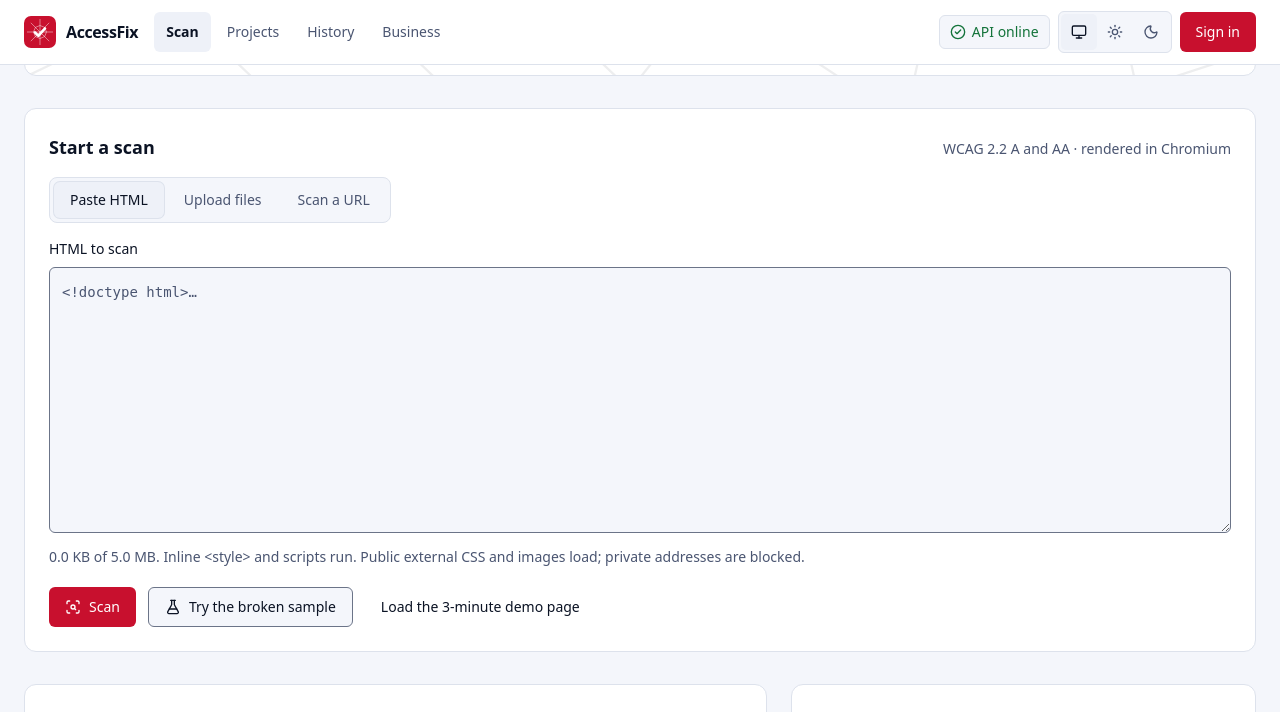
Test: scan flow › shows a clean state that still points to manual checks
(page scrolled)
Check: the text "API online" is shown, box [950,22,1038,42]
Type "<p>hi</p>" into the text box labelled "HTML to scan" at (640, 400), box [49,267,1231,533]
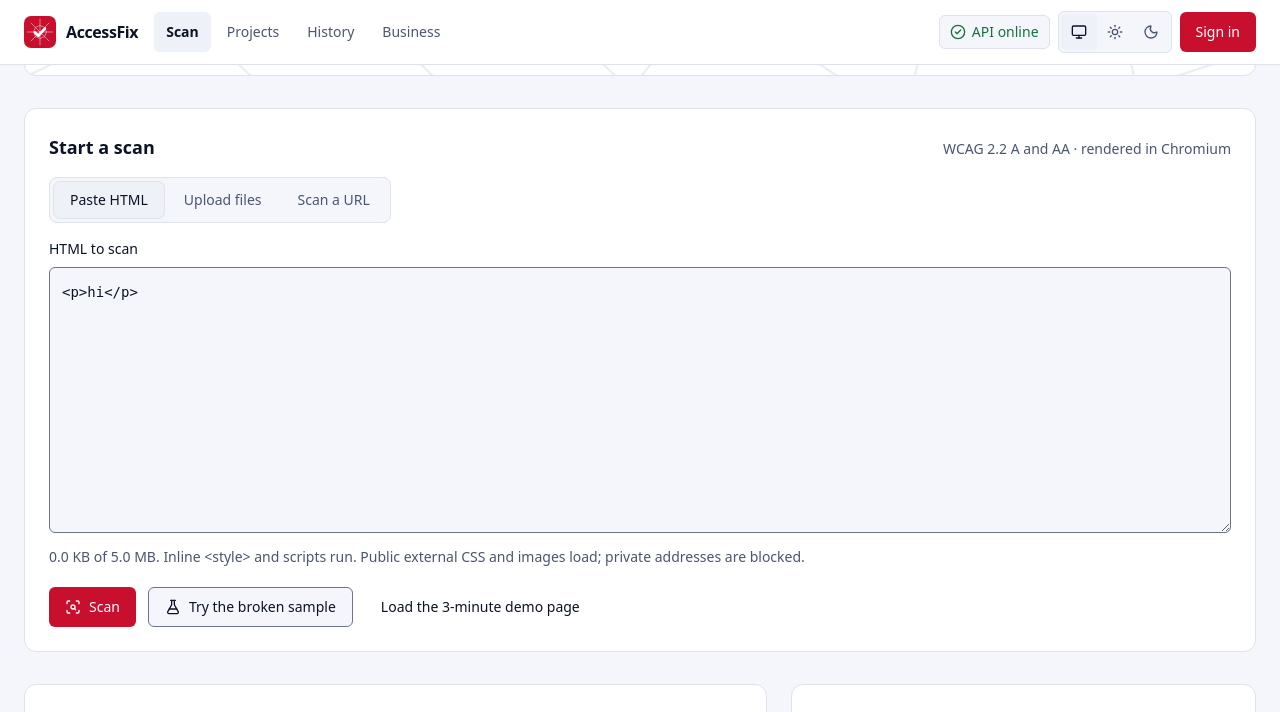
Click the button "Scan" at (92, 607), box [49,587,136,627]
(page scrolled)
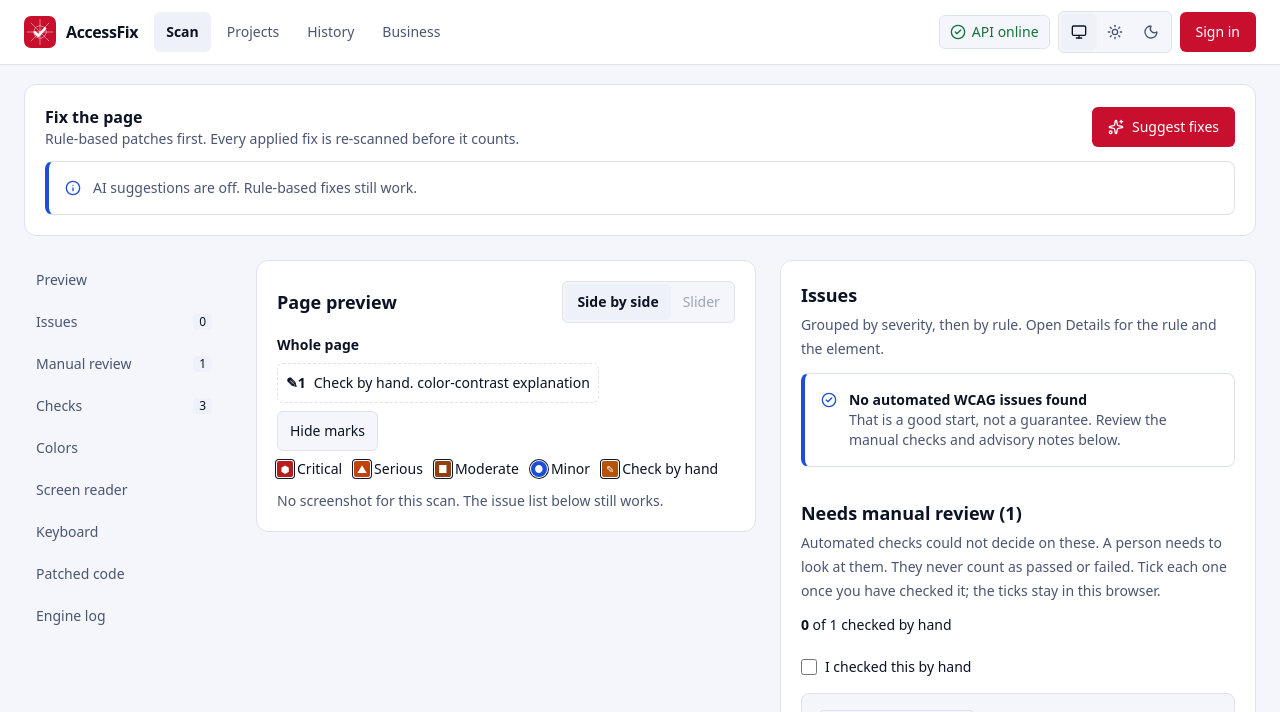
Check: the text "No automated WCAG issues found" is shown, box [849,390,1087,409]
